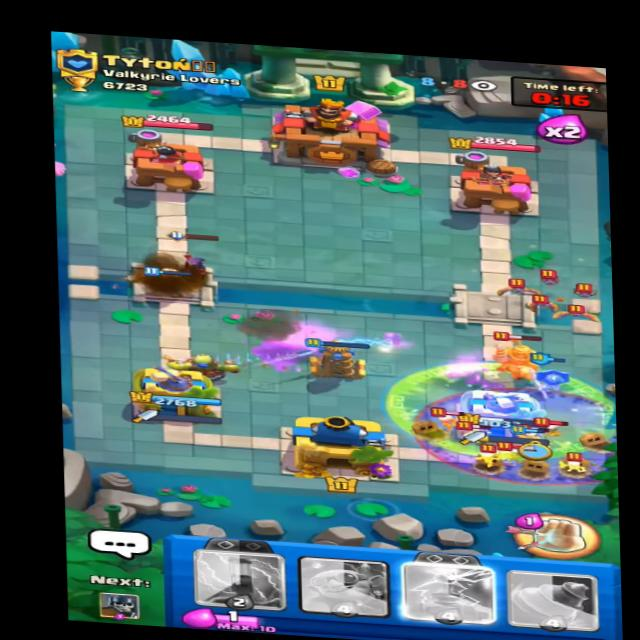Bat: (554, 299, 593, 325), (517, 294, 562, 314), (495, 277, 530, 302), (565, 283, 602, 305), (531, 269, 569, 289)
Evowizard: (154, 237, 230, 289)
Graveyard: (415, 379, 628, 490)
Prince: (490, 326, 555, 386)
Skeleton: (563, 446, 598, 478), (426, 405, 460, 429), (541, 417, 574, 441), (467, 446, 499, 464)
